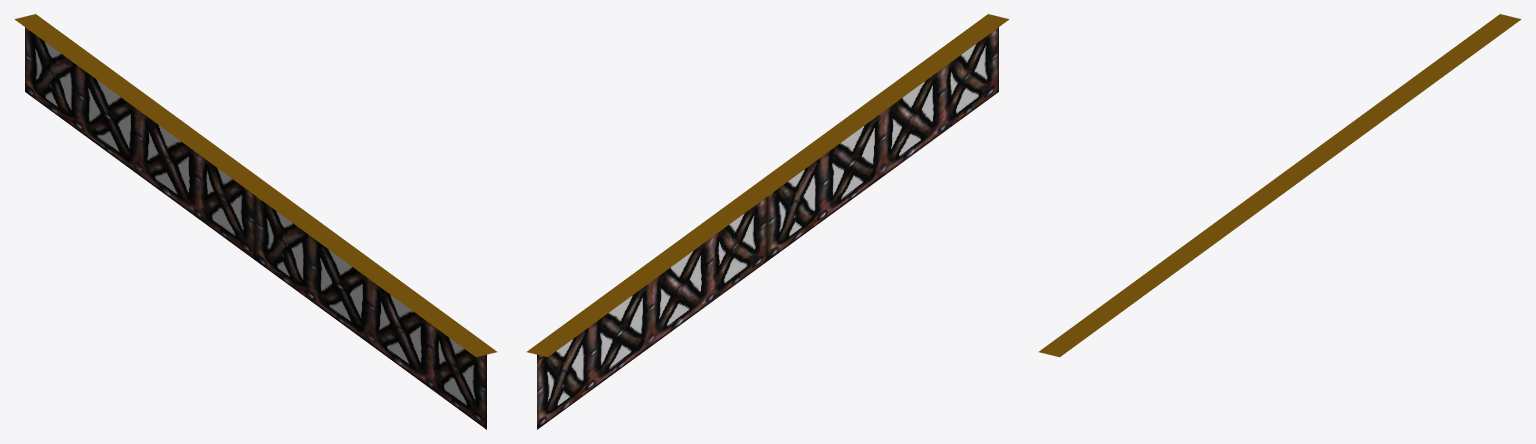
The model's file is Geländer4Gedreht [Querstreben]_360.glb.
3 views of the same model, side by side, from view 1: azimuth 30°, elevation 25°; view 2: azimuth 150°, elevation 25°; view 3: azimuth 330°, elevation 25° (orthographic).
Parts seen in each view (by area): view 1: pPlaneShape223, pPlaneShape224; view 2: pPlaneShape223, pPlaneShape224; view 3: pPlaneShape224.
Boxes of the visible parts, <box> form: pPlaneShape223: <box>25,27,486,429</box>; pPlaneShape224: <box>14,14,496,357</box>; pPlaneShape223: <box>537,27,998,429</box>; pPlaneShape224: <box>527,14,1009,357</box>; pPlaneShape224: <box>1039,14,1521,357</box>.
Bounding box in the file's own units: 0.0243 × 0.081 × 0.9007.
2 materials, 1 textured.
